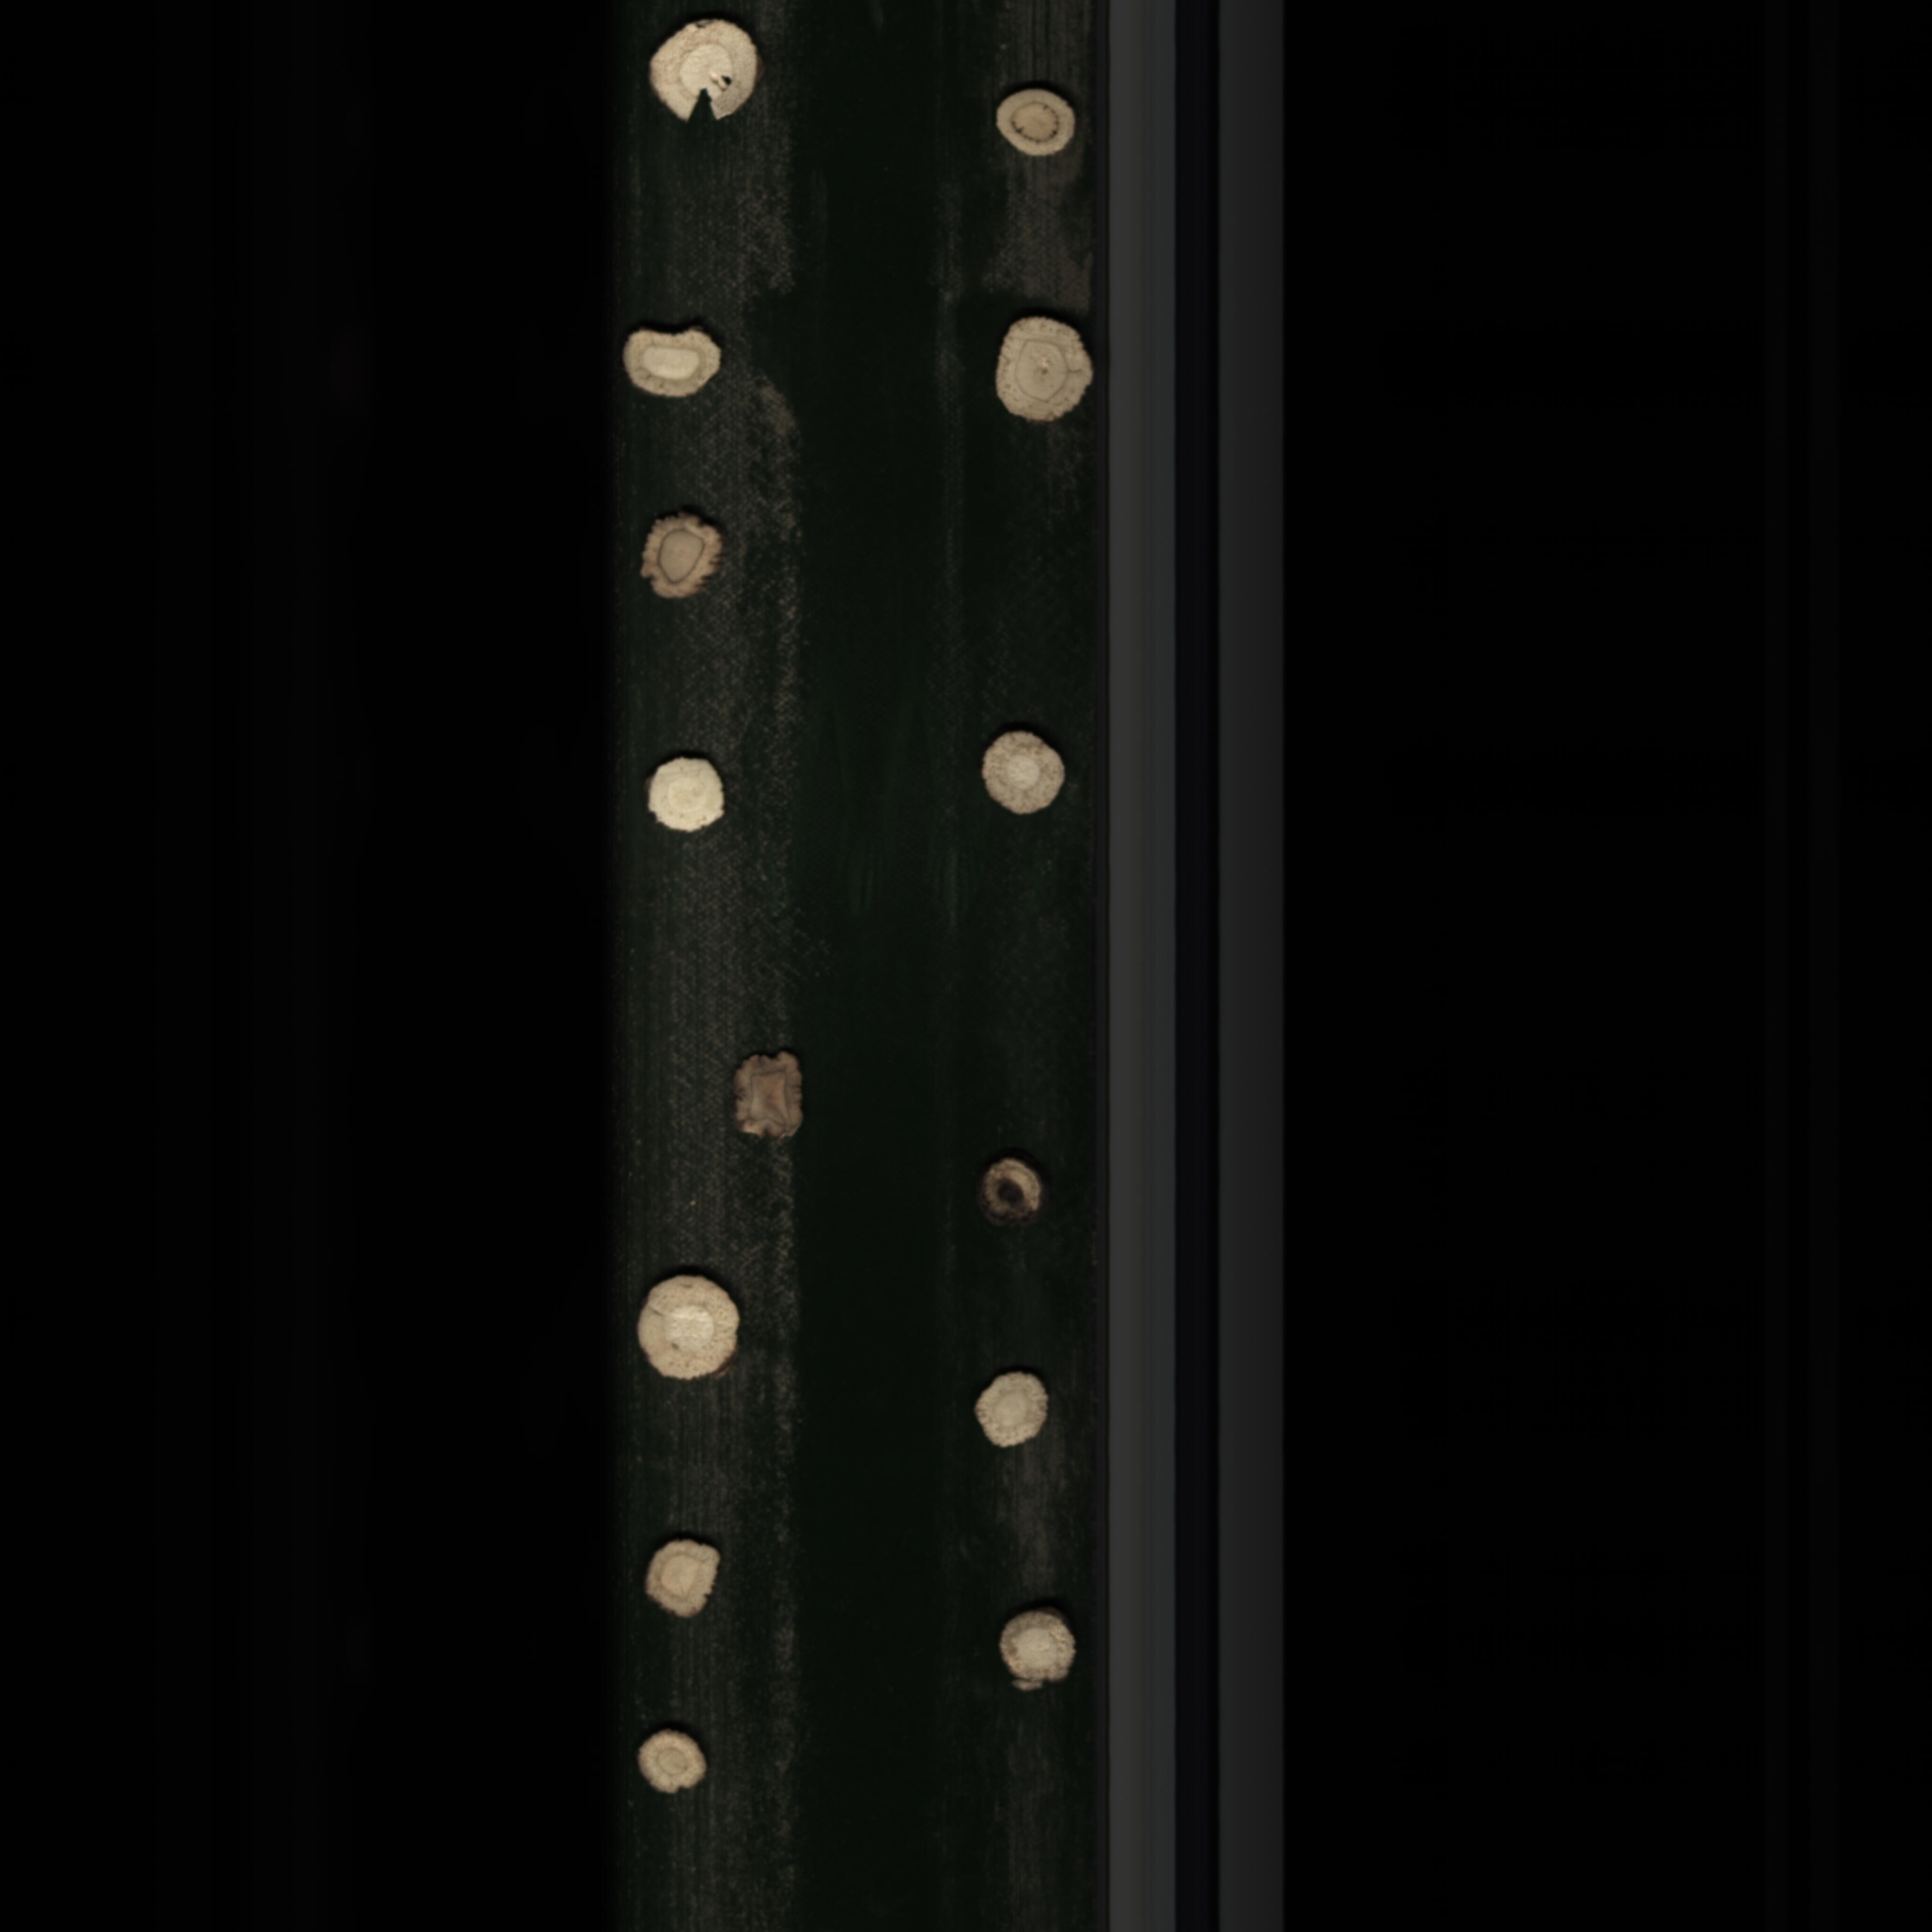debris: (640, 14, 770, 131)
moldy: (623, 501, 734, 614), (724, 1042, 814, 1152), (968, 1150, 1060, 1237), (991, 83, 1085, 165)
